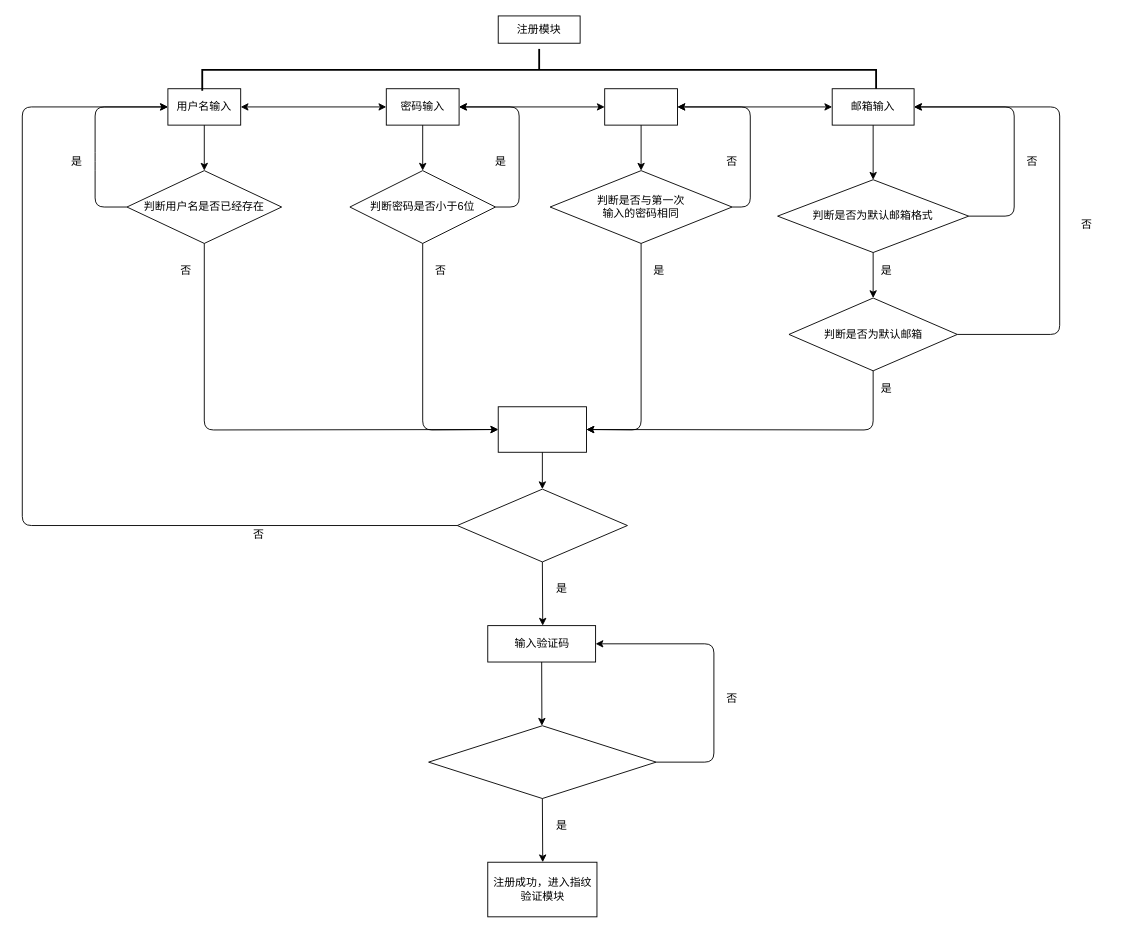
This 1121x933 diagram has some shape labels left out. The centre of each missing label's shape, as x and y in pixels:
二次密码输入: the point at 640,106
判断上述信息是否完整: the point at 541,525
判断验证码是否正确: the point at 542,762
获取验证码: the point at 541,429
（各输入模块可互相切换）: the point at 539,69
